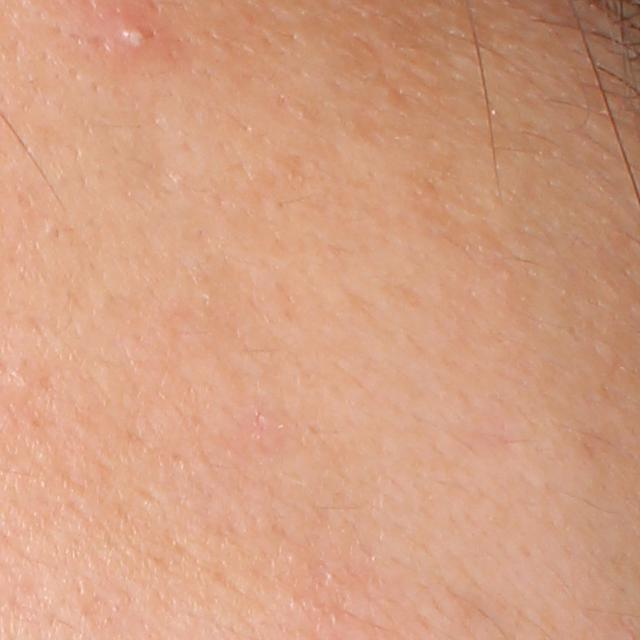pustule: (102, 6, 158, 56)
